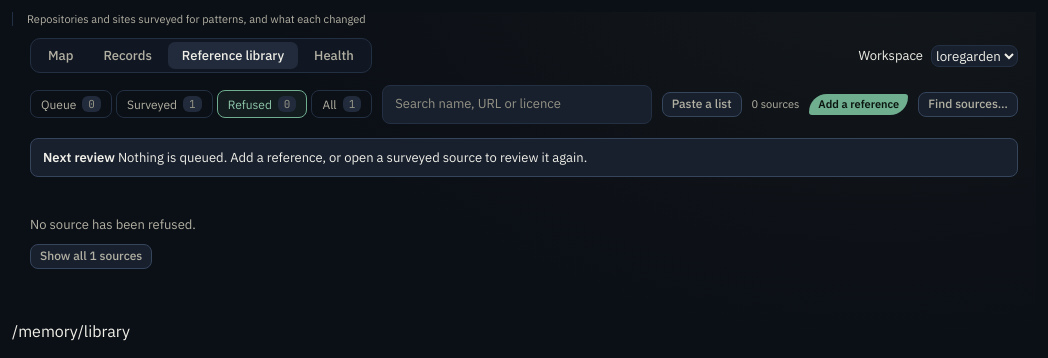
it: the five states › an empty view points to where the sources are
Check: the text "No source has been refused." is shown, box 30,215 -> 196,234
Click the button "Show all 1 sources": click(91, 256) 30,244 -> 152,269
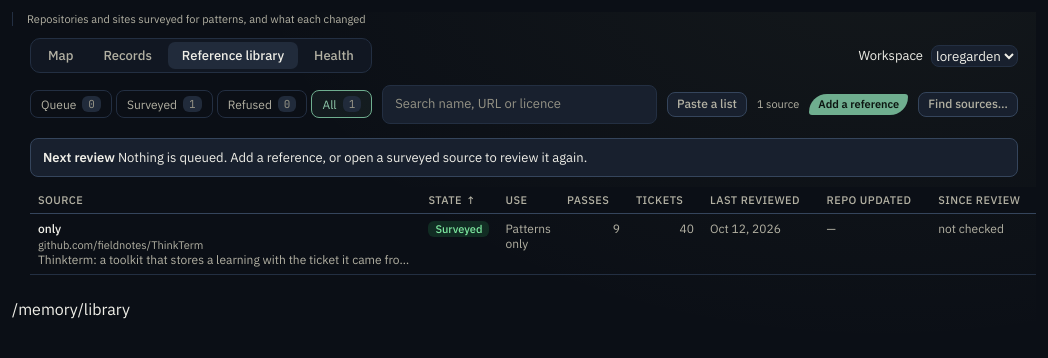
Check: the link "only" is shown, box 38,221 -> 61,236
